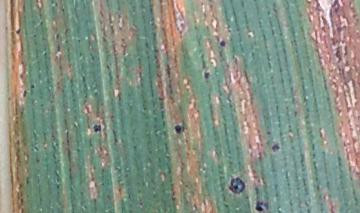tarspot: (228, 177, 246, 195), (255, 201, 268, 212), (271, 143, 281, 153), (175, 124, 184, 133), (93, 124, 102, 132), (14, 26, 22, 35), (203, 70, 211, 78), (22, 89, 28, 98), (29, 83, 36, 90), (220, 41, 226, 48)
